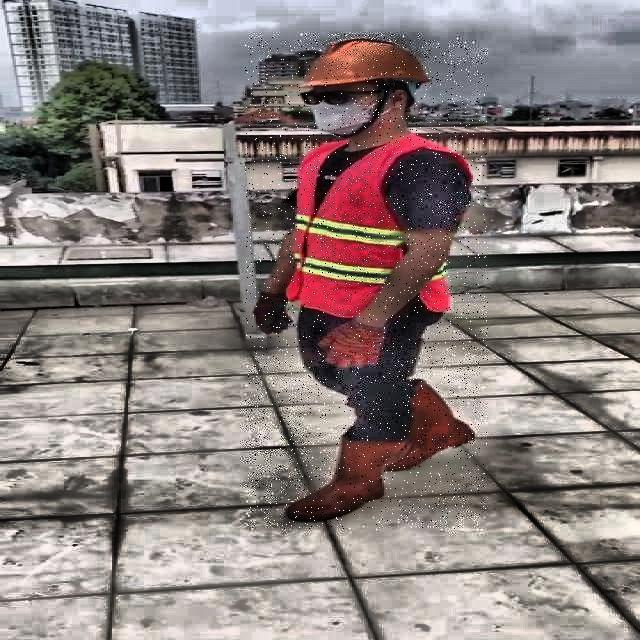safety_helmet: (294, 34, 434, 90)
safety_jacket: (292, 140, 449, 315)
